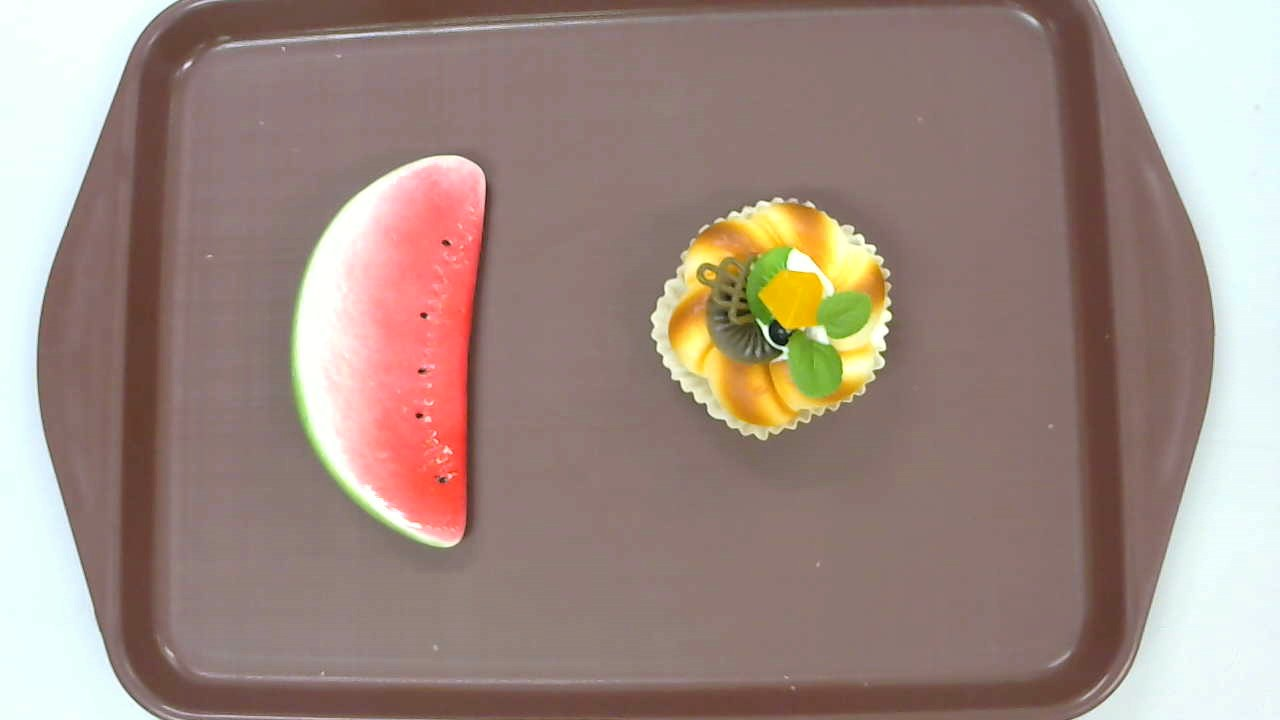fruit tart: (649, 197, 892, 441)
water melon: (285, 154, 487, 549)
